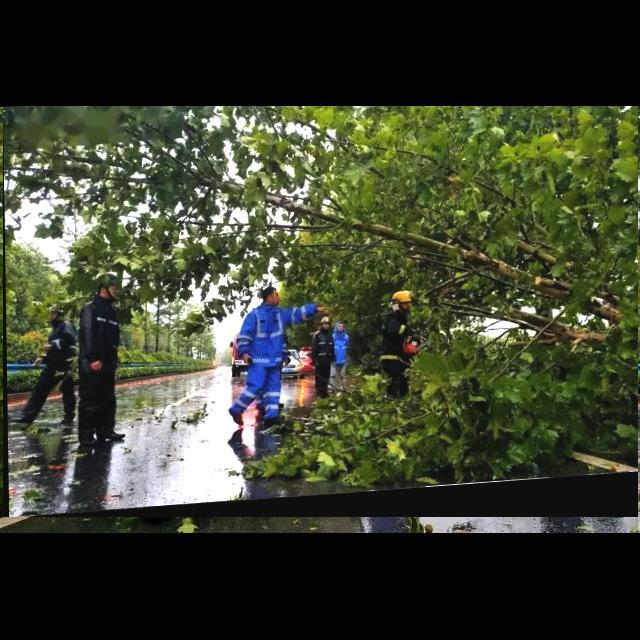fallen_tree: (3, 106, 639, 518)
